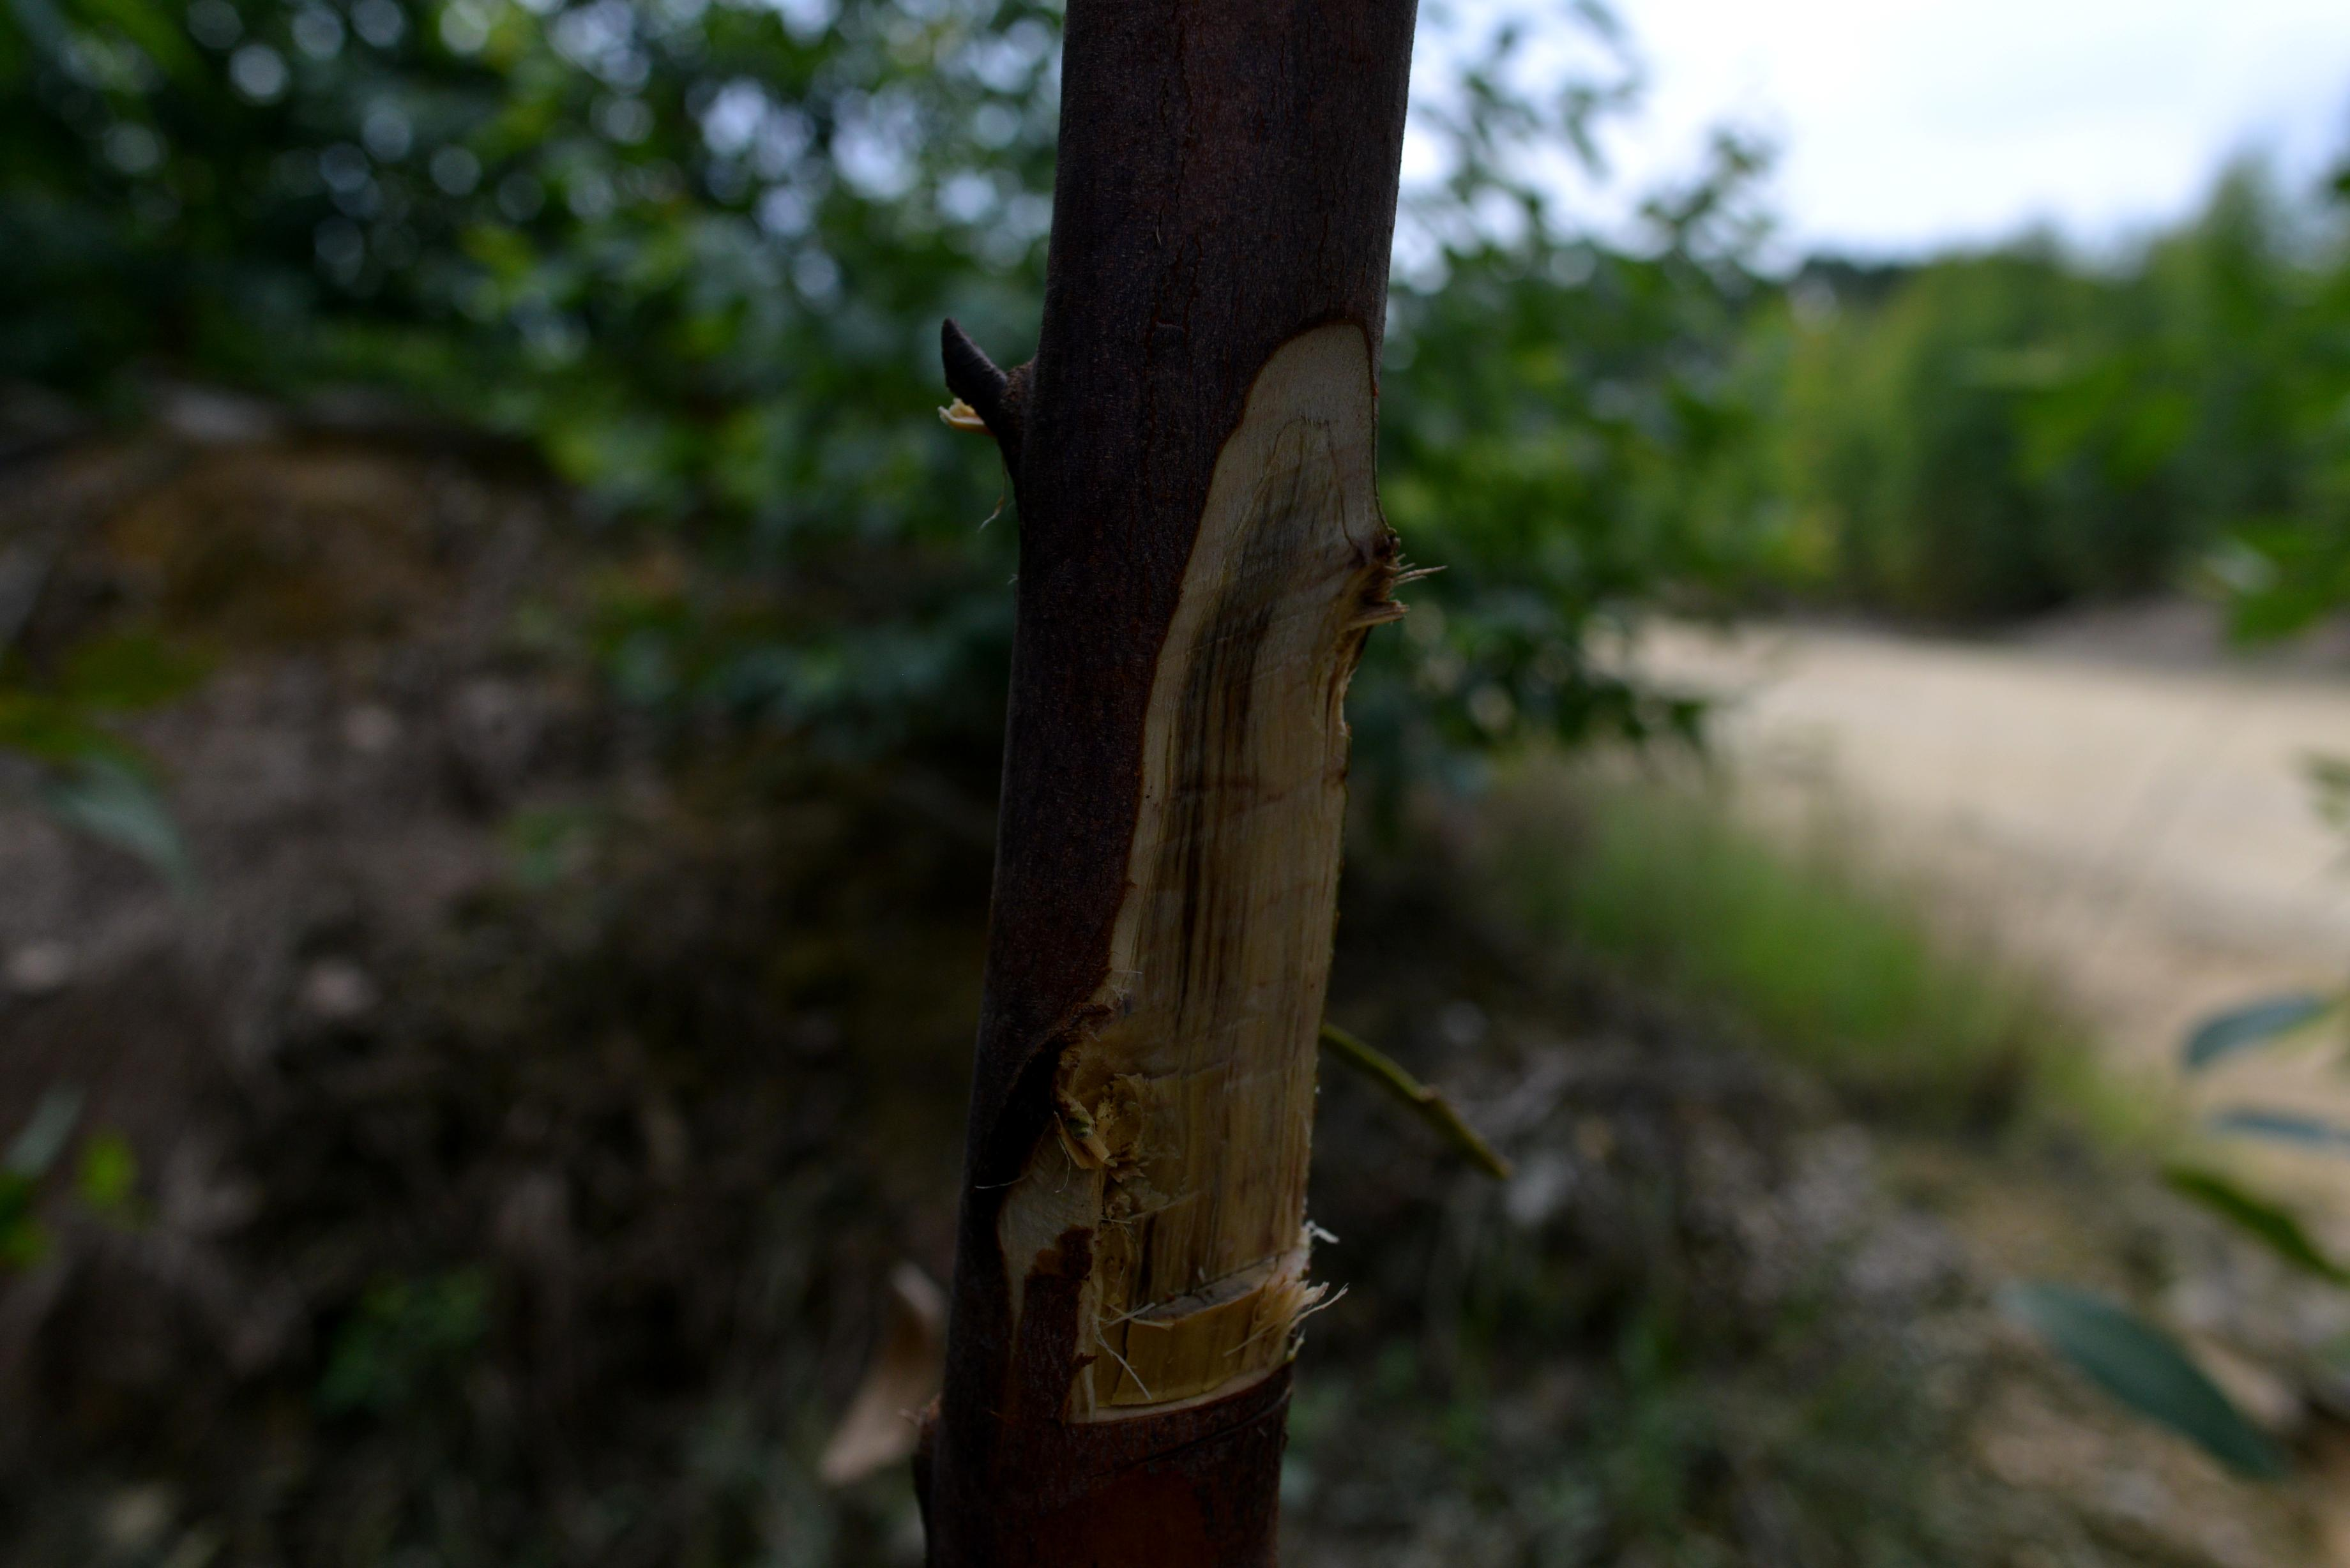Ralstonia: (1057, 399, 1381, 1388)
